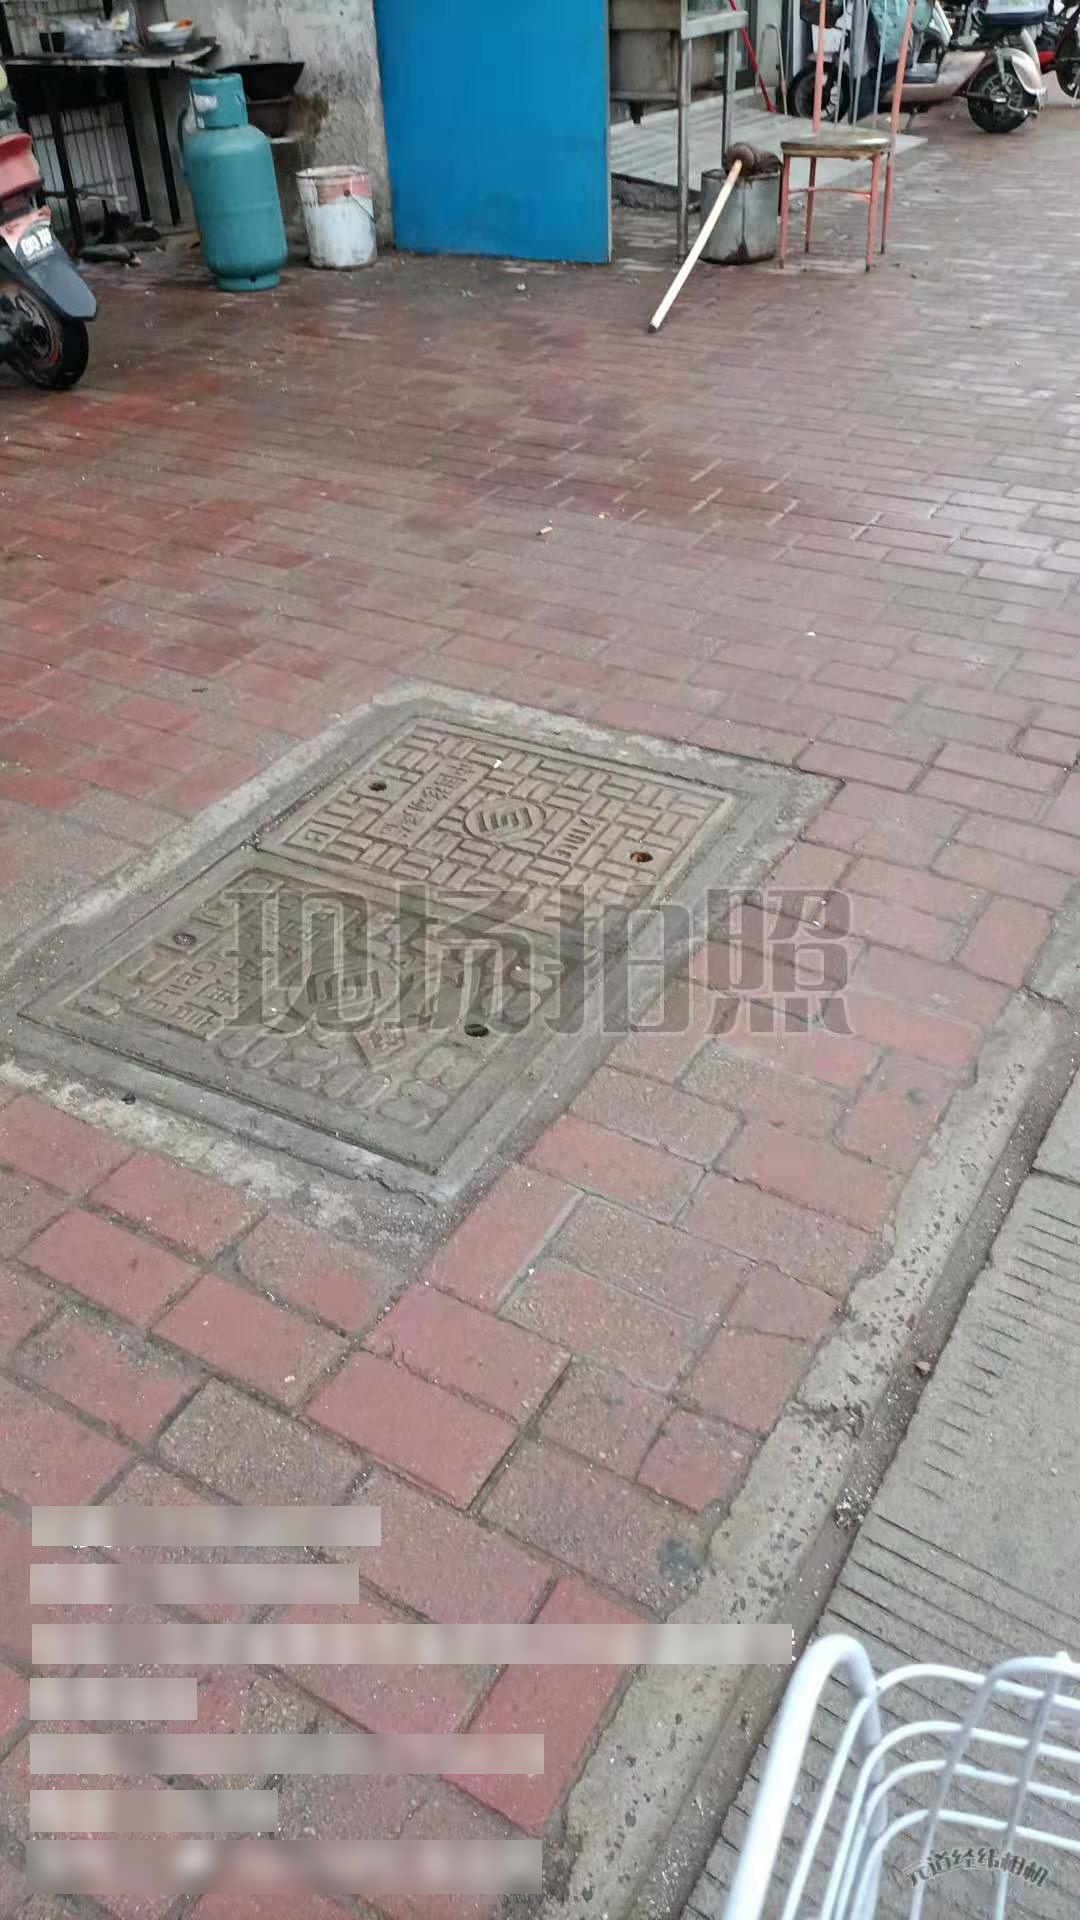good: (7, 696, 790, 1209)
